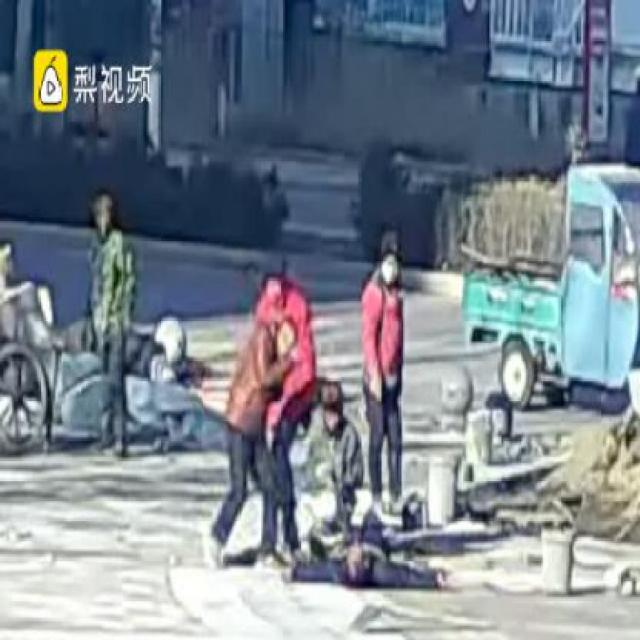fall: (274, 487, 454, 599)
